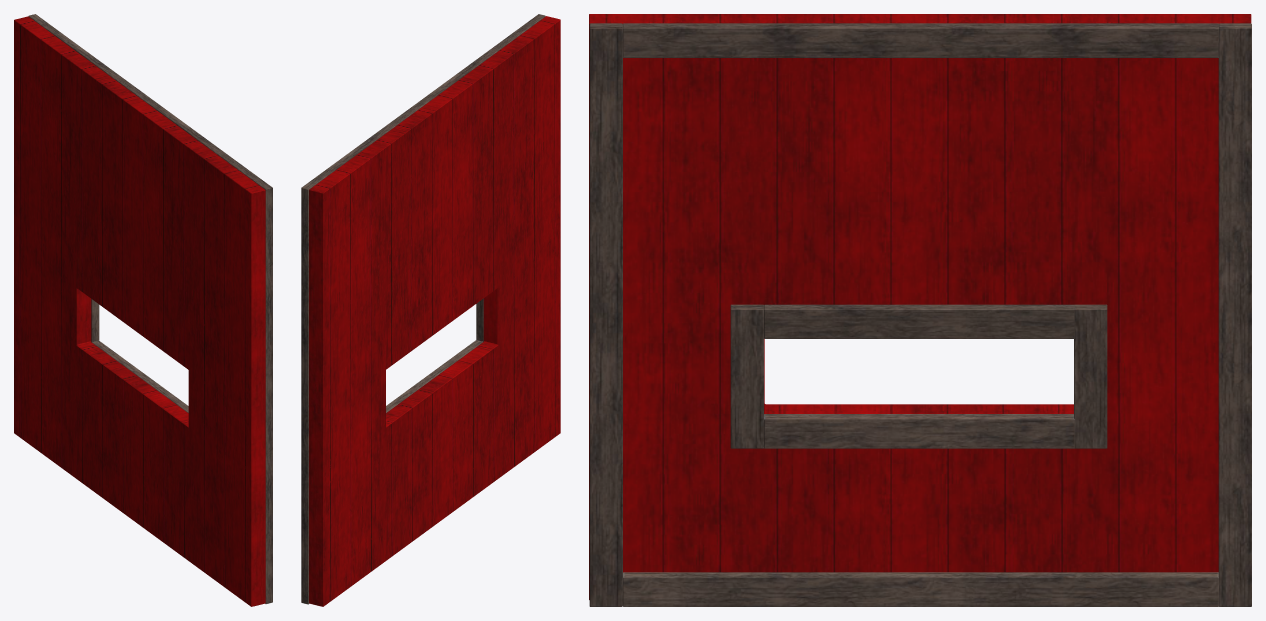
Rendered from StableWall_SideWindow1_LP.glb.
3 views of the same model, side by side, from view 1: azimuth 30°, elevation 25°; view 2: azimuth 150°, elevation 25°; view 3: azimuth 270°, elevation 25° (orthographic). The views are drawn at different scales.
Visible parts, largest first — view 1: StableWall_SideWindow1_LP; view 2: StableWall_SideWindow1_LP; view 3: StableWall_SideWindow1_LP.
Boxes of the visible parts, x1,y1,x2,y2 form: StableWall_SideWindow1_LP: (14, 14, 272, 606); StableWall_SideWindow1_LP: (301, 14, 560, 606); StableWall_SideWindow1_LP: (589, 14, 1251, 606).
Bounding box in the file's own units: 0.2327 × 4.18 × 4.34.
1 material, 1 textured.
